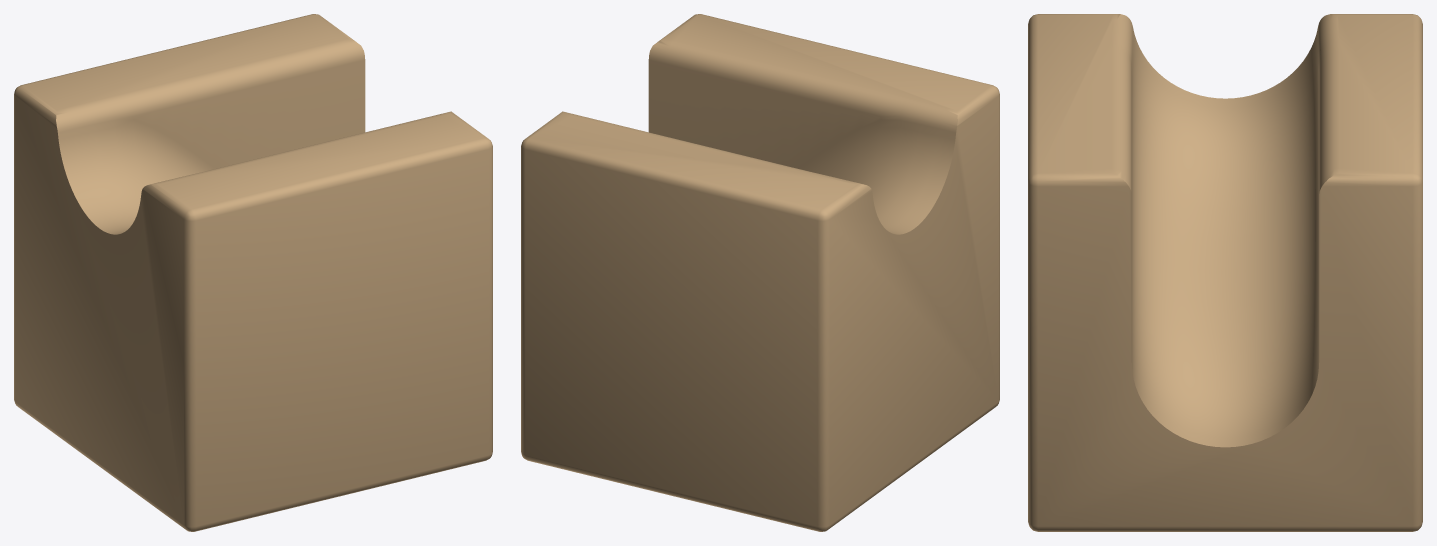
The model's file is blk_slope_steep_l3.glb.
3 renders of one model, left to right at view 1: azimuth 30°, elevation 25°; view 2: azimuth 150°, elevation 25°; view 3: azimuth 270°, elevation 25°, orthographic. The views are drawn at different scales.
Parts seen in each view (by area): view 1: blk_slope_steep_l3_lod0; view 2: blk_slope_steep_l3_lod0; view 3: blk_slope_steep_l3_lod0.
Part boxes in pixels (left/top/right/bottom): blk_slope_steep_l3_lod0: left=14, top=14, right=492, bottom=531; blk_slope_steep_l3_lod0: left=521, top=14, right=999, bottom=531; blk_slope_steep_l3_lod0: left=1028, top=14, right=1422, bottom=531.
Size of what is drawn, in the model's own units: 0.059 by 0.059 by 0.059.
